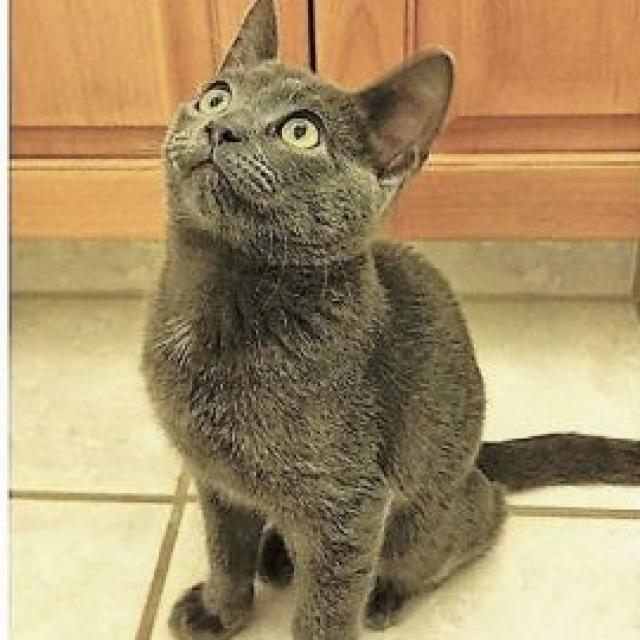Russian Blue: (135, 0, 640, 640)
